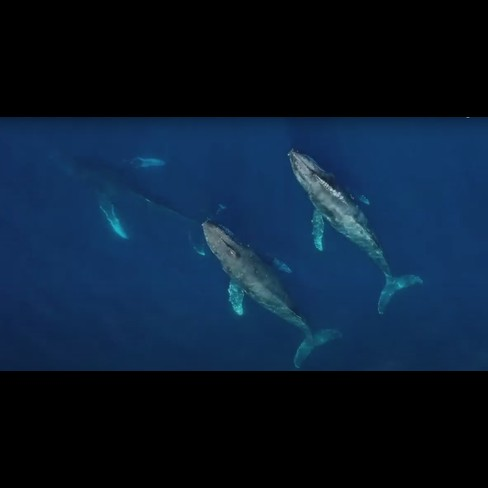hump: (20, 126, 230, 259), (283, 142, 428, 322), (195, 216, 348, 371)
